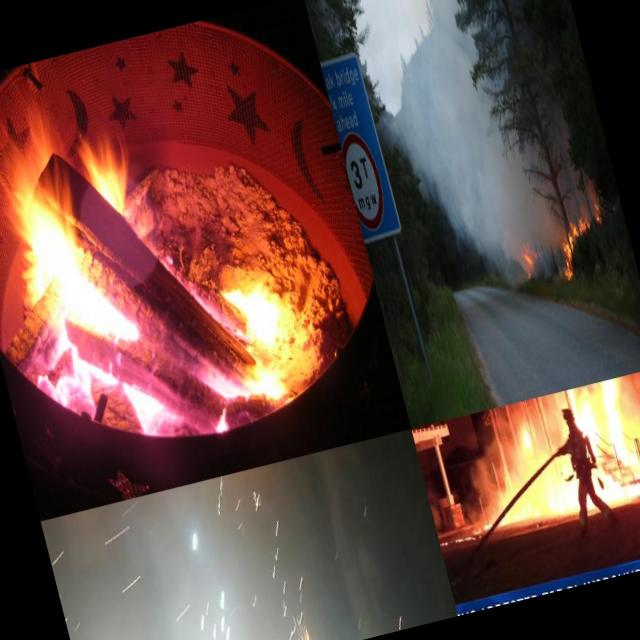fire: (0, 65, 301, 474), (590, 377, 638, 462), (538, 450, 585, 518), (601, 463, 640, 511), (562, 201, 606, 239), (552, 220, 578, 282), (511, 410, 538, 457), (438, 526, 480, 554), (519, 233, 540, 270)
smoke: (367, 1, 535, 258), (456, 428, 529, 503), (526, 392, 572, 451), (618, 367, 640, 434)
